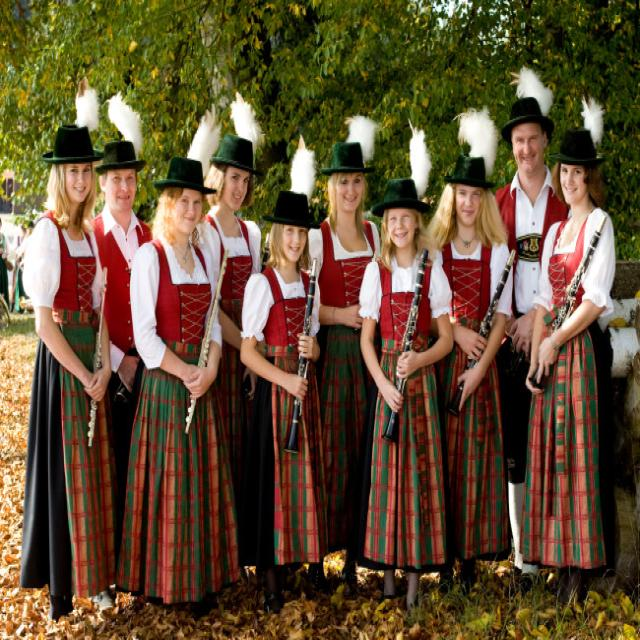clarinet: (528, 216, 609, 391), (445, 249, 517, 420), (380, 249, 429, 449), (282, 255, 322, 457)
